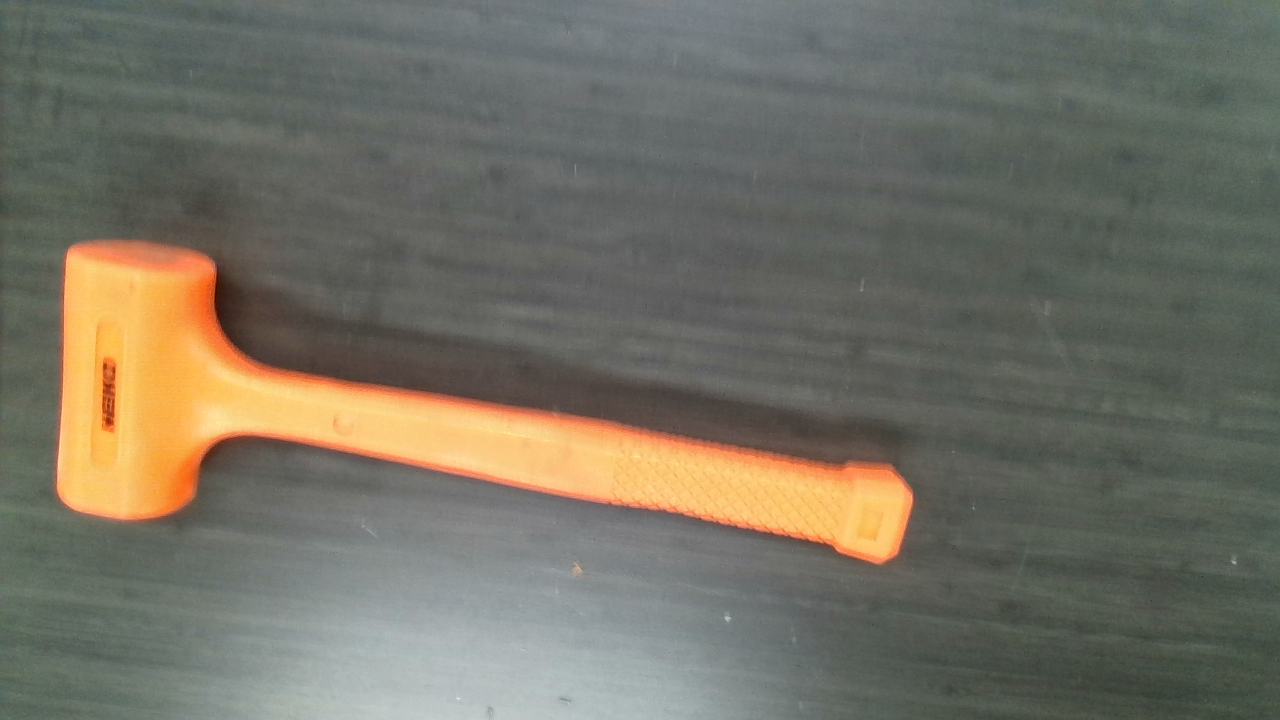Orange Hammer: (63, 242, 914, 564)
